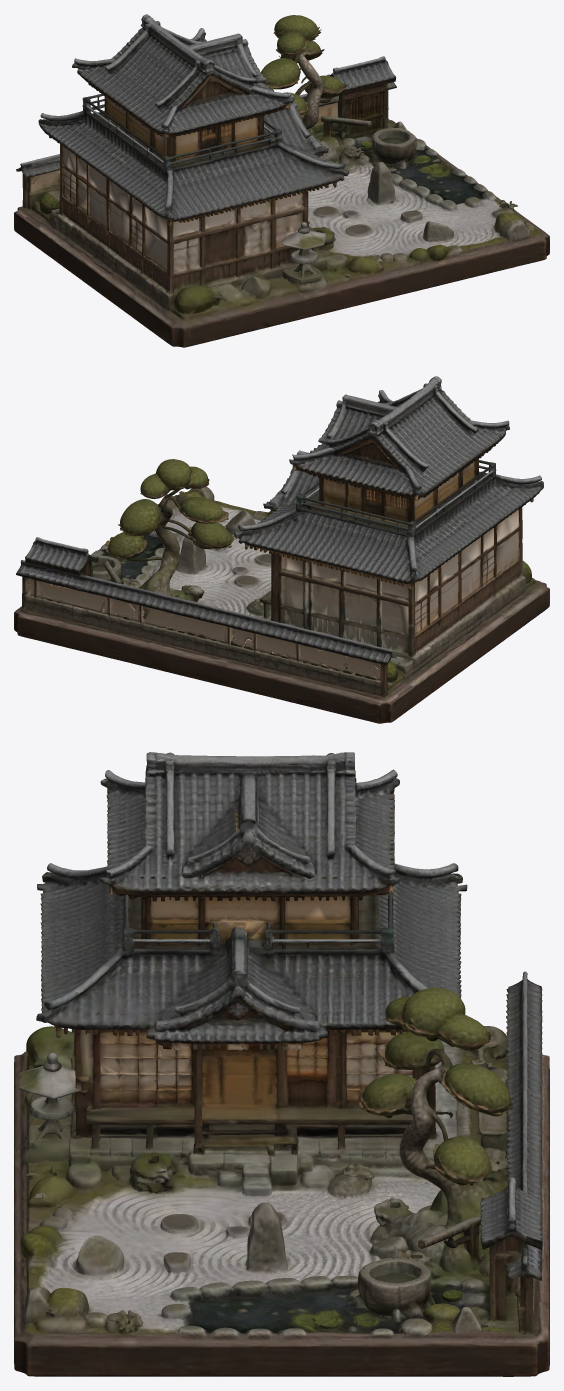
Rendered from japanese_house.glb.
3 renders of one model, top to bottom at view 1: azimuth 30°, elevation 25°; view 2: azimuth 150°, elevation 25°; view 3: azimuth 270°, elevation 25°, orthographic. The views are drawn at different scales.
Visible parts, largest first — view 1: tripo_node_d6fe252b-1d70-42a4-80af-ebe0cdfe868b; view 2: tripo_node_d6fe252b-1d70-42a4-80af-ebe0cdfe868b; view 3: tripo_node_d6fe252b-1d70-42a4-80af-ebe0cdfe868b.
Part boxes in pixels (bbox=[...]): tripo_node_d6fe252b-1d70-42a4-80af-ebe0cdfe868b: bbox=[14, 14, 549, 347]; tripo_node_d6fe252b-1d70-42a4-80af-ebe0cdfe868b: bbox=[14, 376, 549, 723]; tripo_node_d6fe252b-1d70-42a4-80af-ebe0cdfe868b: bbox=[14, 752, 549, 1376].
Bounding box in the file's own units: 1 × 0.6119 × 0.7631.
Materials: 1 (1 with a texture image).
